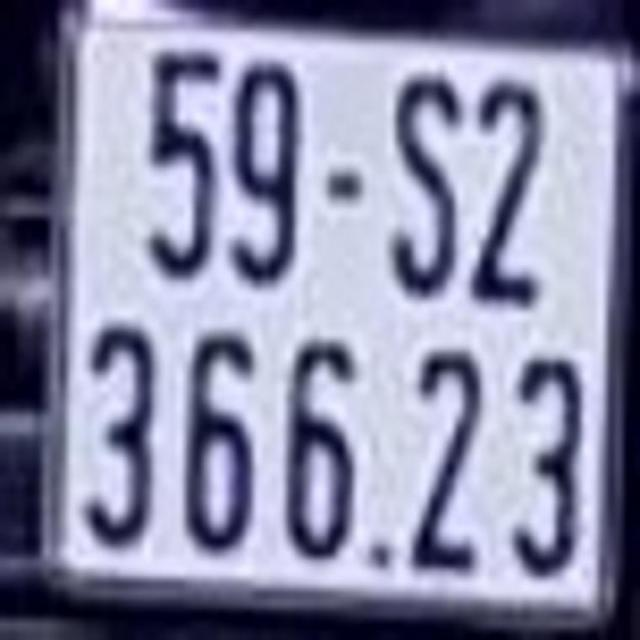2: (407, 318, 491, 580), (473, 52, 548, 316)
3: (506, 324, 589, 592), (82, 314, 162, 554)
5: (137, 33, 225, 280)
6: (178, 310, 262, 568), (280, 310, 362, 572)
9: (228, 42, 306, 298)
S: (387, 45, 465, 308)
